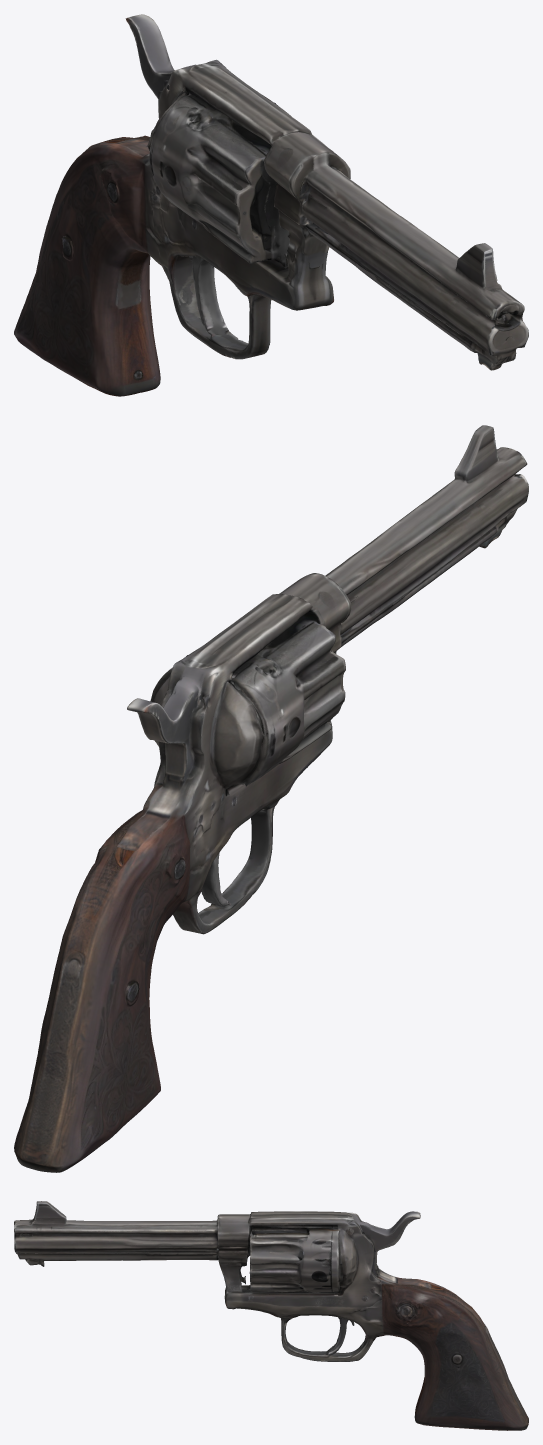
The model's file is Revolver__0508160106.glb.
3 renders of one model, top to bottom at view 1: azimuth 30°, elevation 25°; view 2: azimuth 150°, elevation 25°; view 3: azimuth 270°, elevation 25°, orthographic. The views are drawn at different scales.
Size of the model in its own units: 0.302 by 0.9591 by 2.
1 material, 1 textured.
